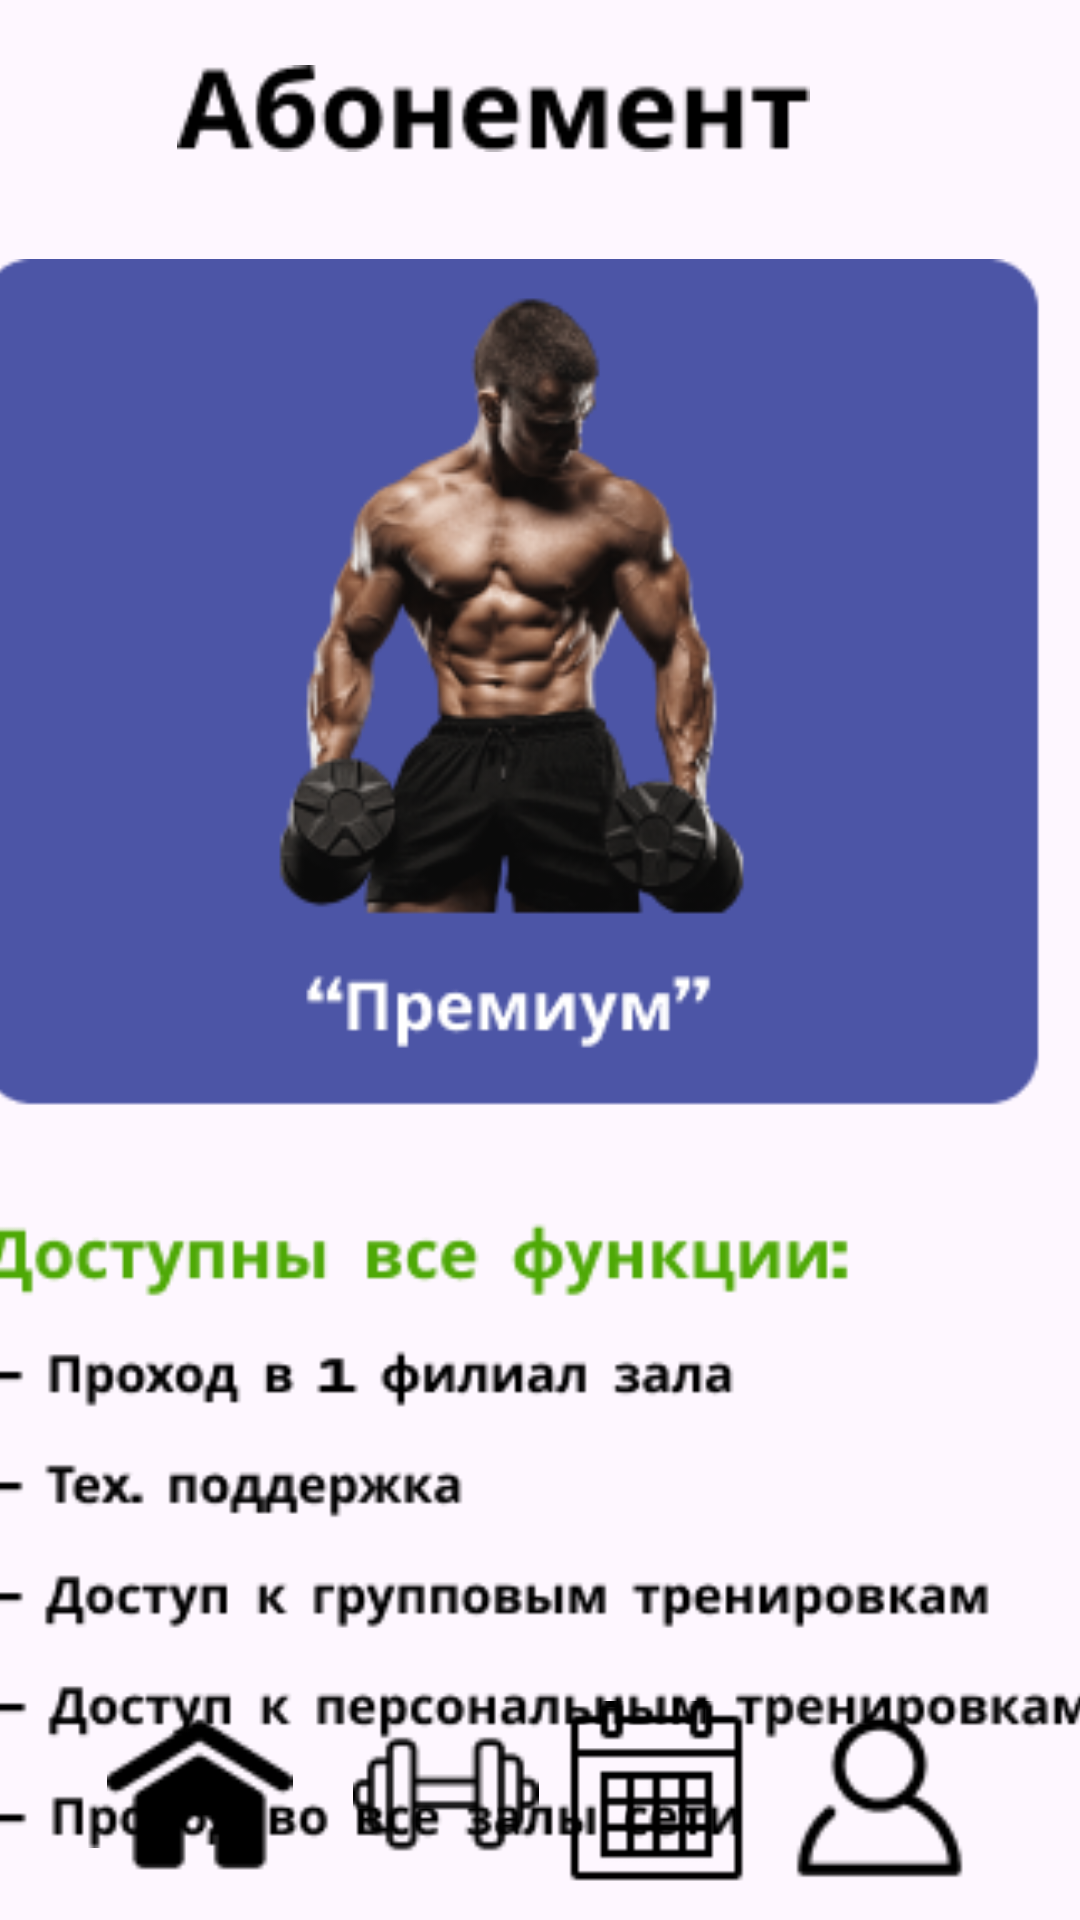

Where to tap for icons on this 1080px x 1920px app screen, as (x,y):
home: (190,1811)
profile: (879,1791)
schedule: (656,1791)
trener: (445,1794)
